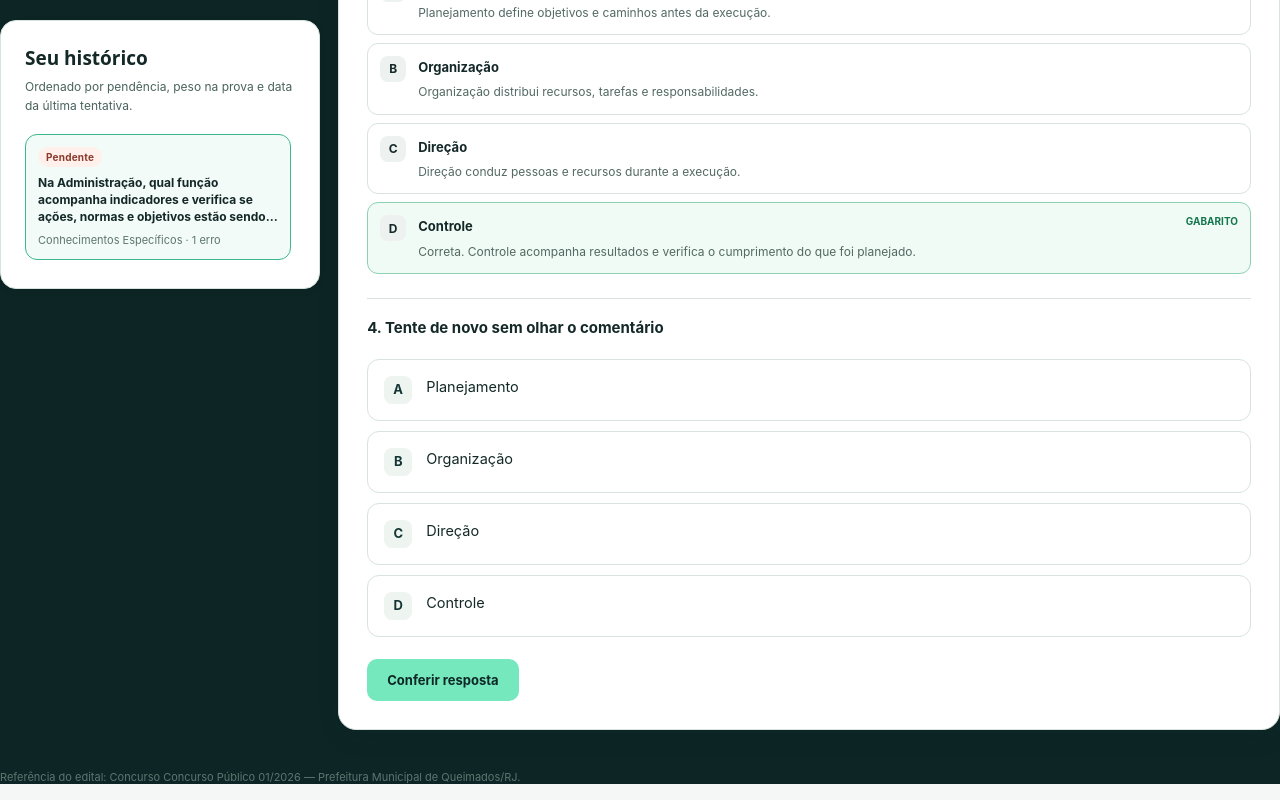
ErrorTutor › records a new answer from the lesson with a session identifier
(page scrolled)
Click the button "D Controle" at (455, 603), box top-left (367, 575), bottom-right (1251, 637)
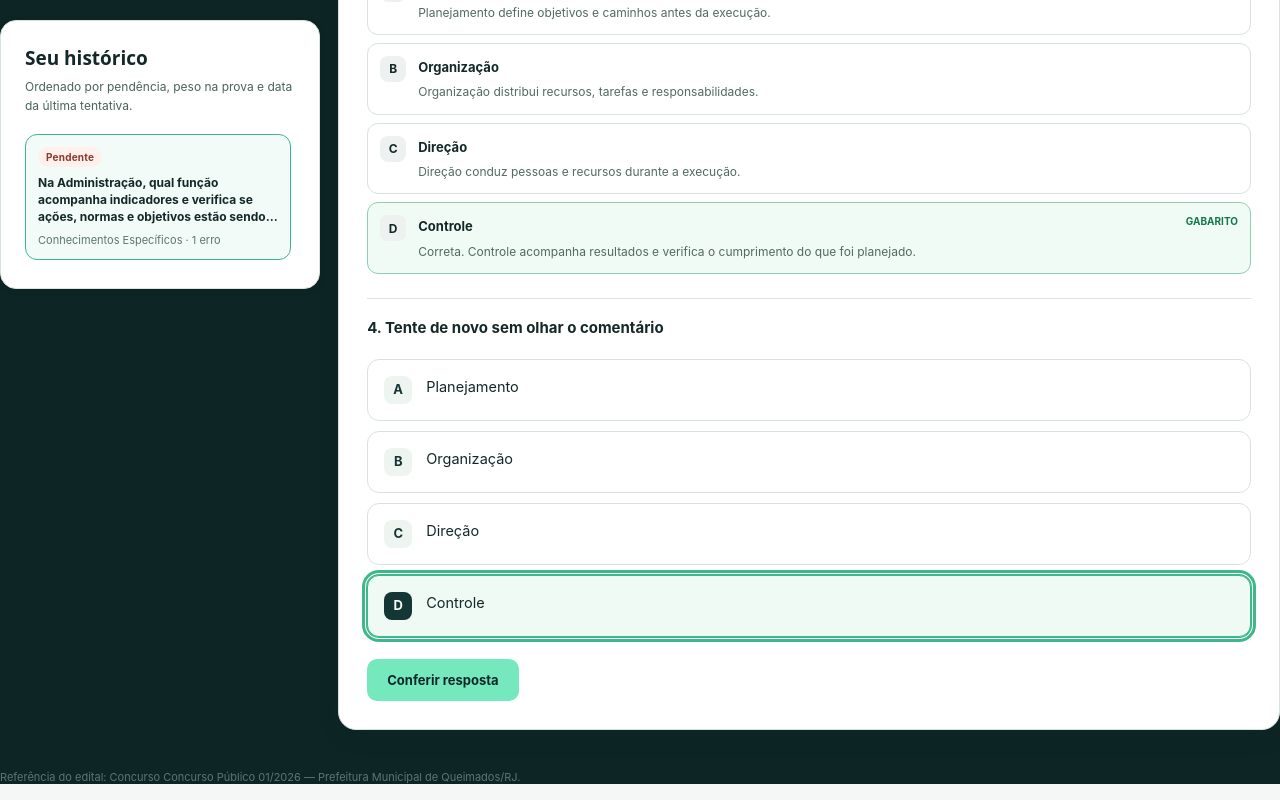
Click the button "Conferir resposta" at (443, 680), box top-left (367, 659), bottom-right (519, 701)
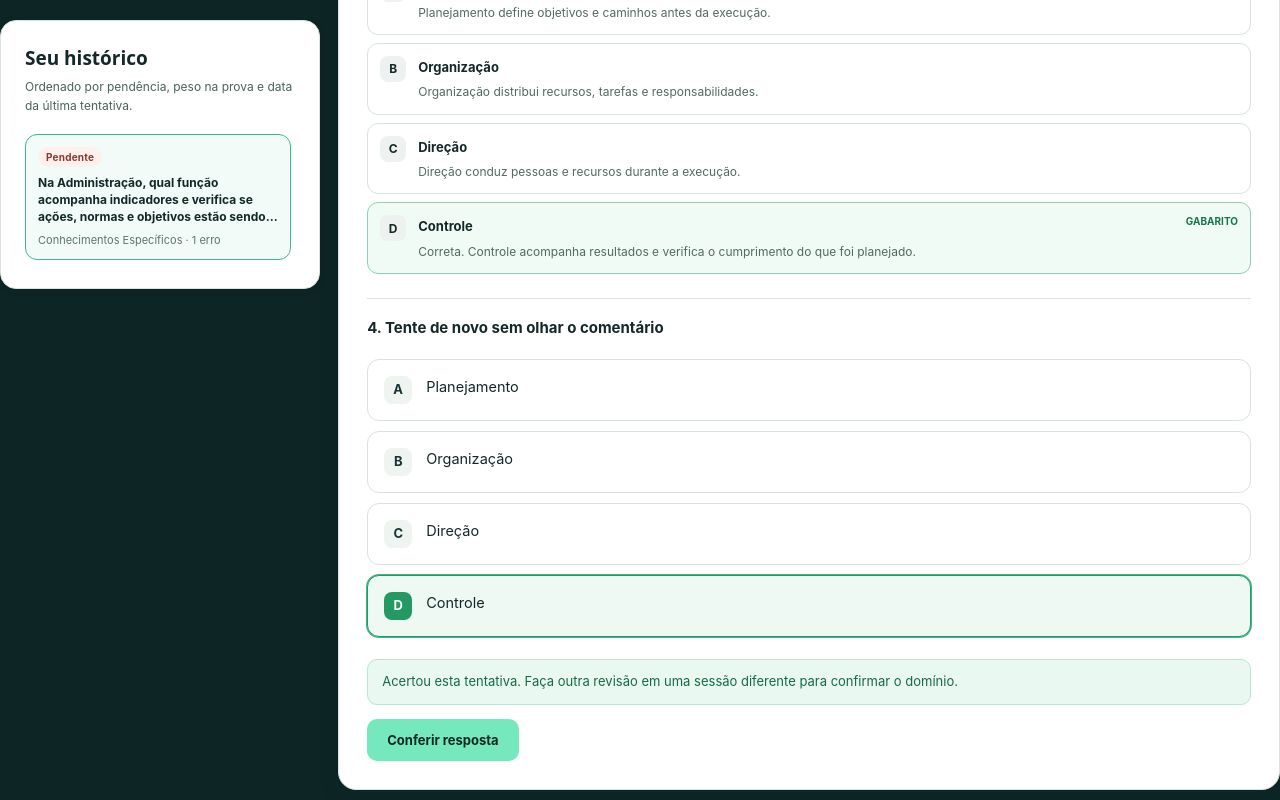
expect the text "Acertou esta tentativa" is shown: met, box top-left (382, 673), bottom-right (958, 689)
